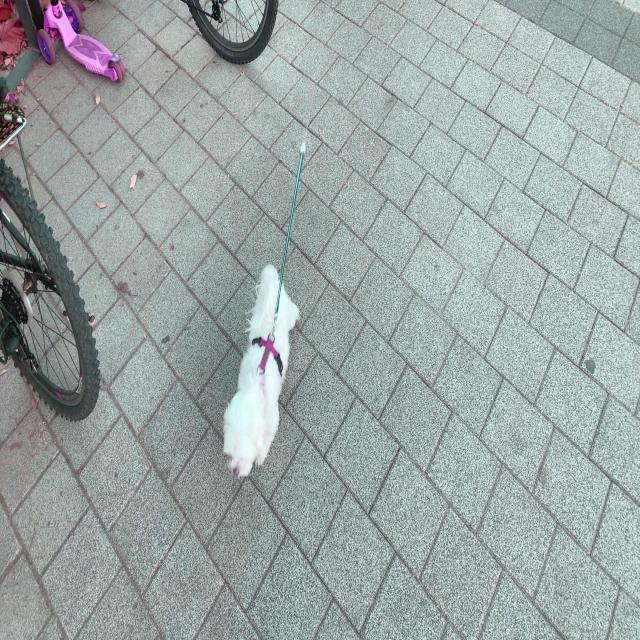Dog: (222, 262, 300, 481)
